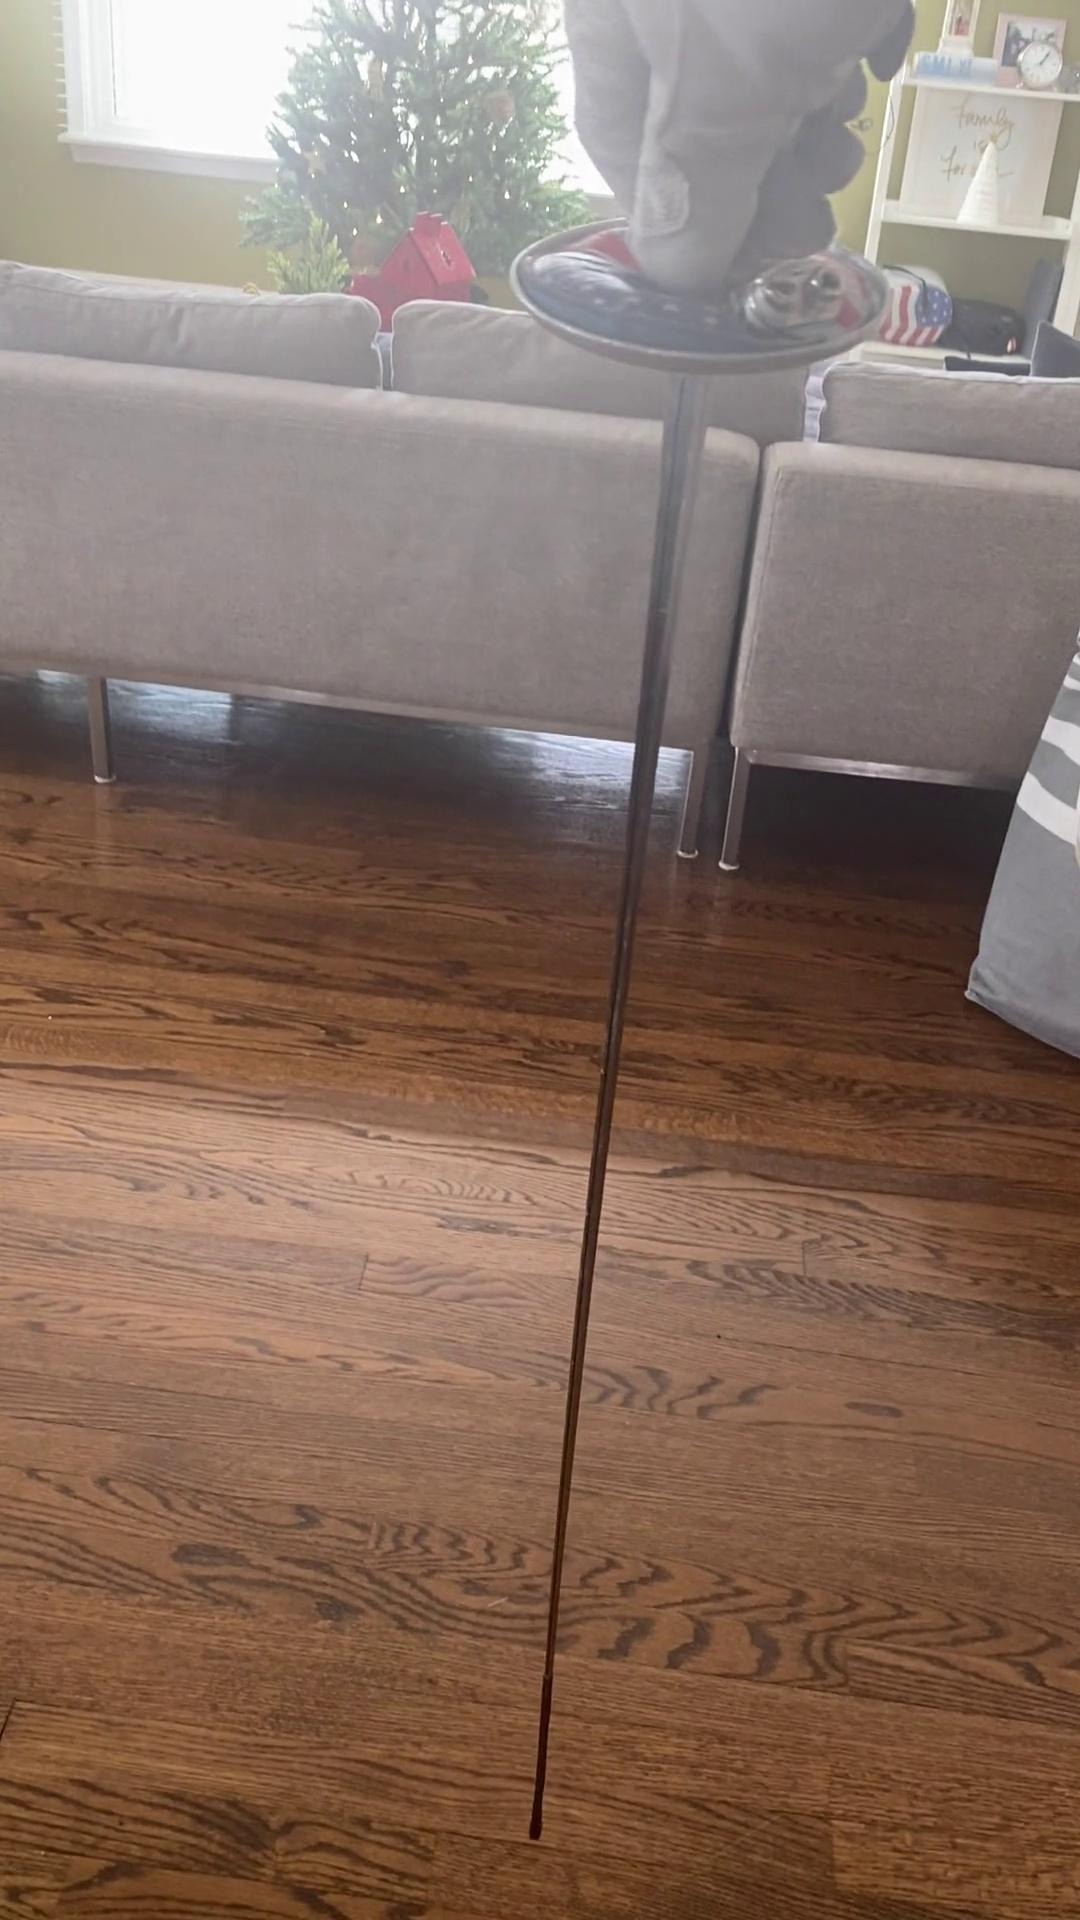blade-guard: (506, 199, 893, 386)
blade-tip: (520, 1663, 568, 1853)
fencing-blade: (495, 160, 901, 1859)
